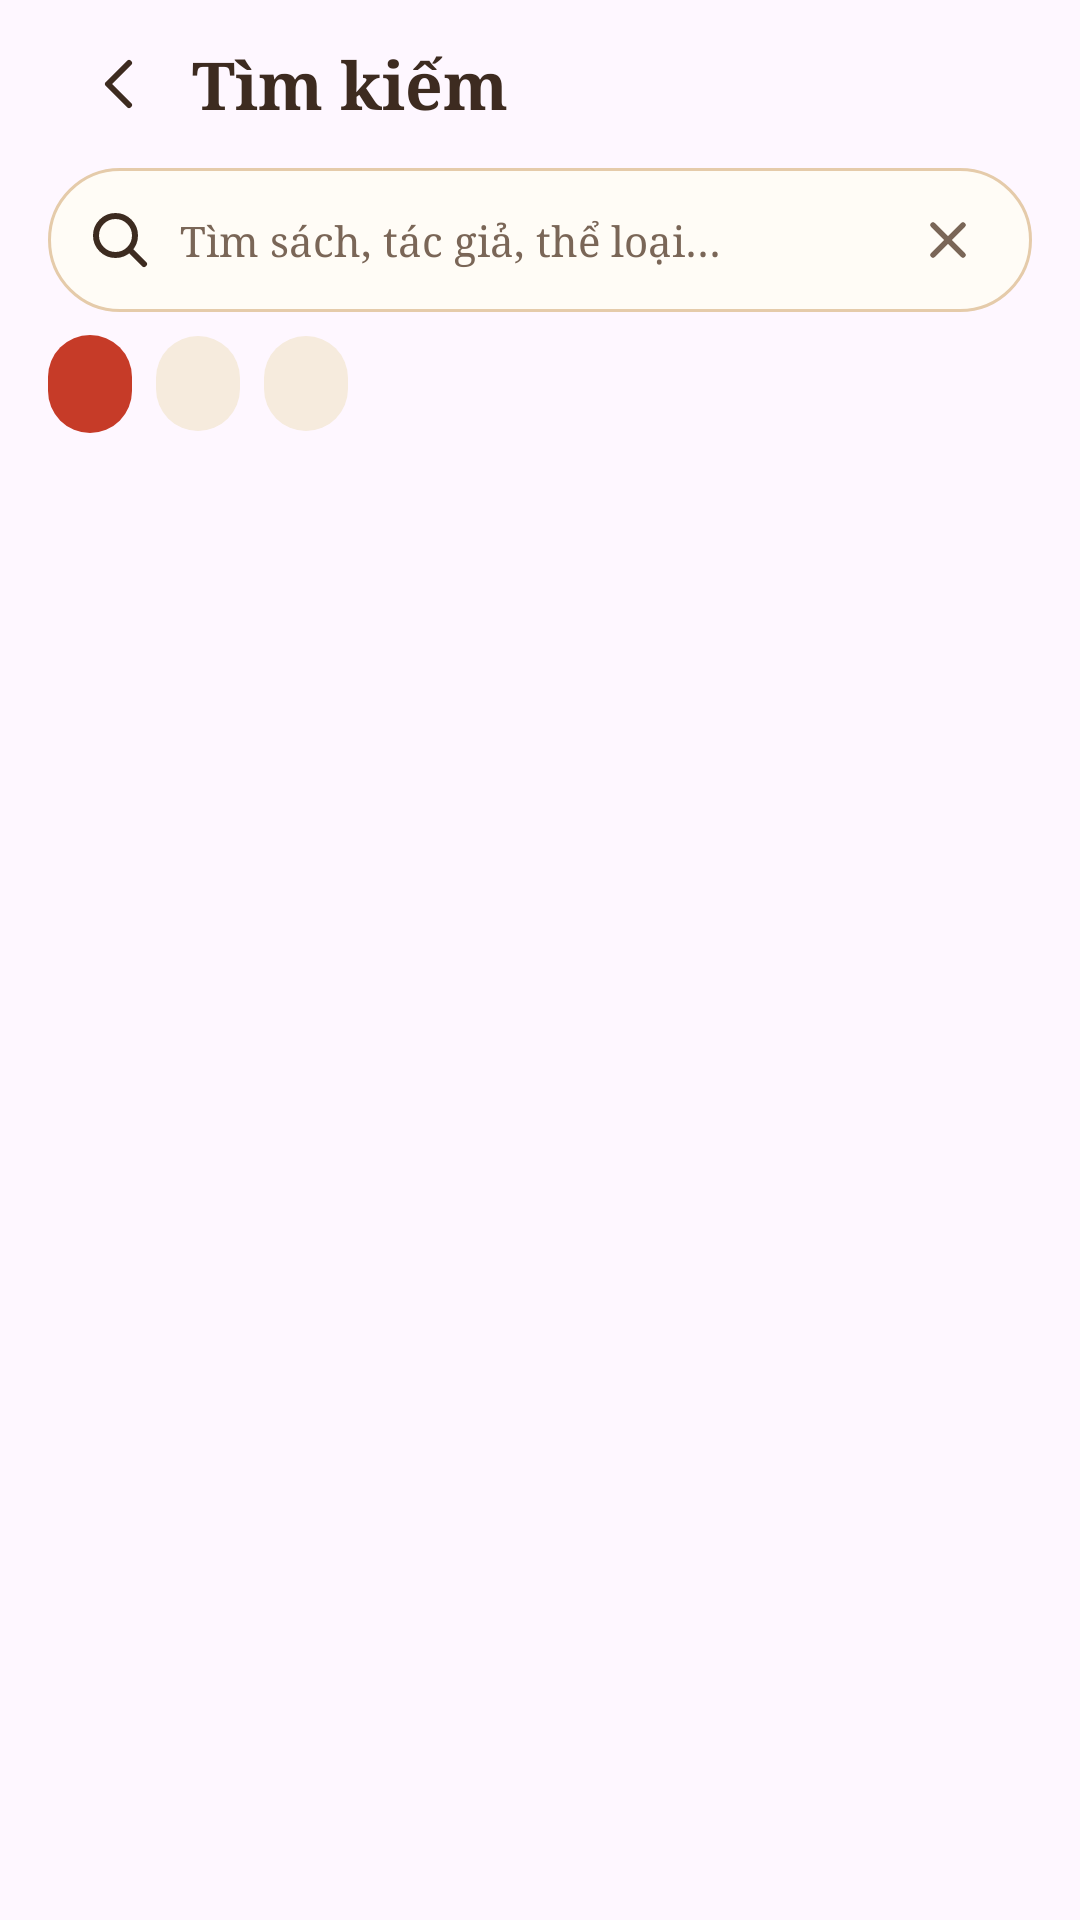

Icons on this 1080px x 1920px Android screen, each with its box as (x1, y1, x2, y2):
library search: (93, 213, 147, 267)
Quay lại: (105, 60, 132, 108)
Xóa từ khóa: (930, 222, 966, 258)
